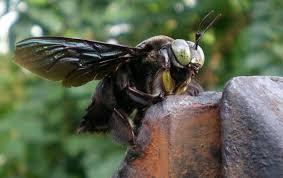Xylocopa: (19, 26, 208, 149)
